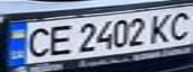0: (112, 16, 133, 48)
2: (75, 19, 100, 54), (127, 14, 151, 47)
4: (93, 17, 115, 52)
C: (18, 25, 54, 60), (163, 8, 193, 41)
E: (42, 21, 75, 56)
K: (145, 11, 178, 44)
